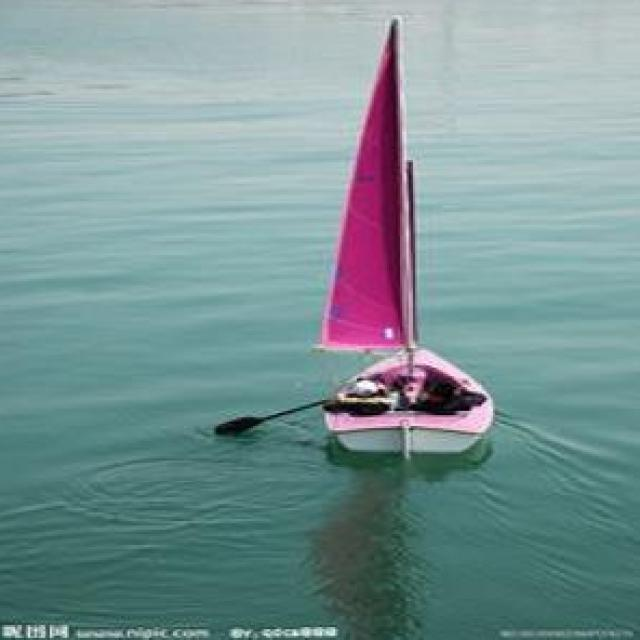sailboat: (310, 8, 498, 464)
